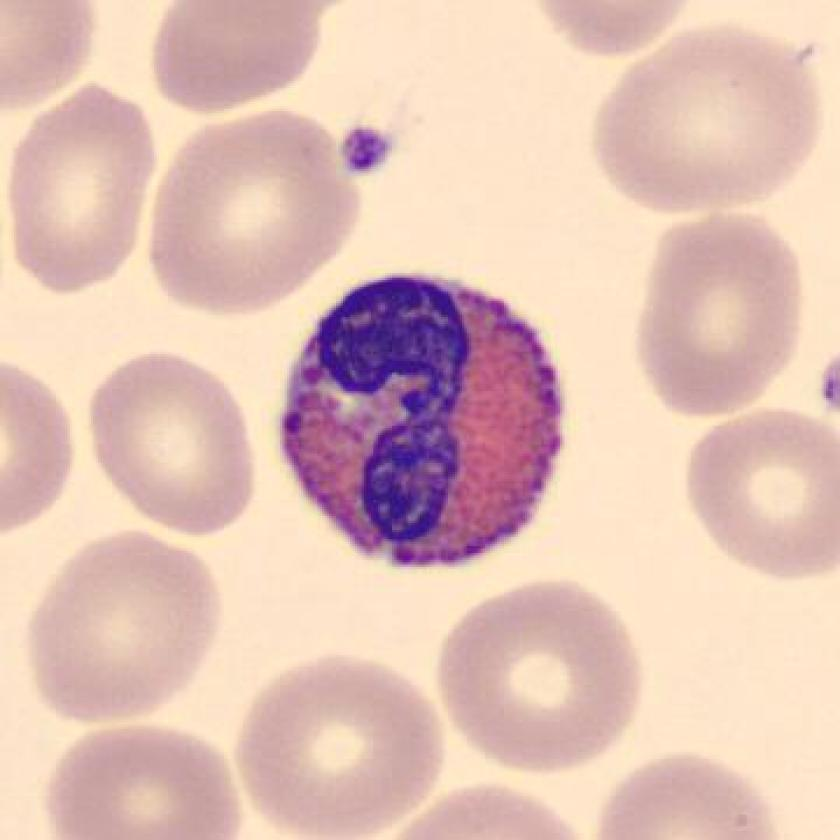eosinophil: (267, 265, 580, 584)
